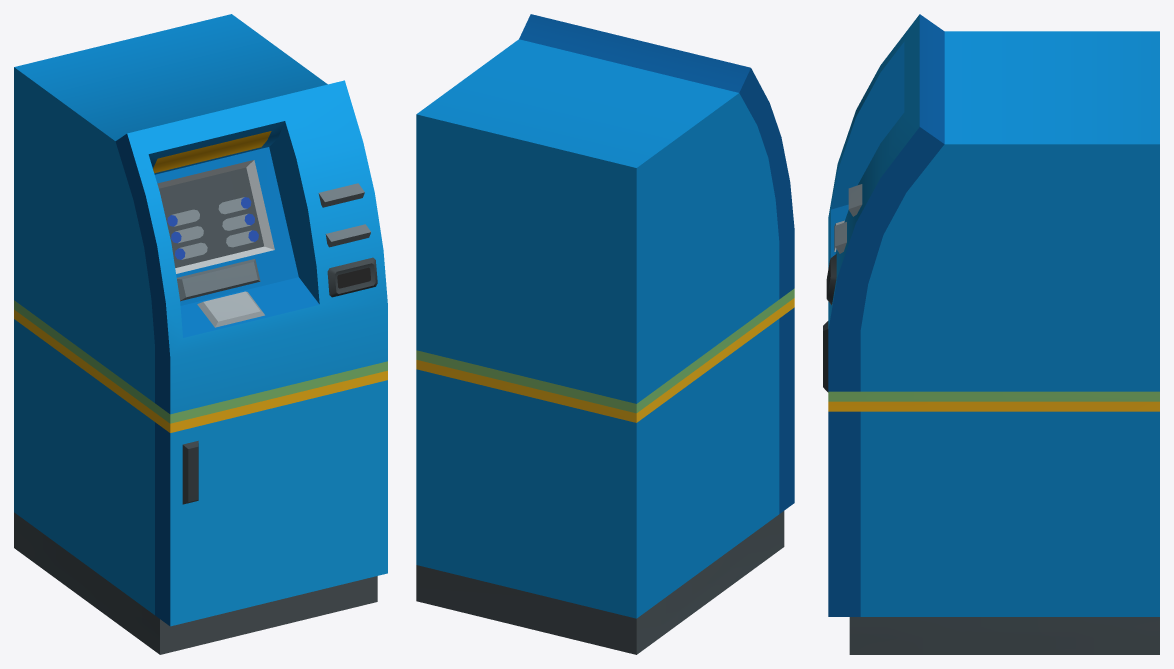
Rendered from ATM_01.obj.
3 views of the same model, side by side, from view 1: azimuth 30°, elevation 25°; view 2: azimuth 150°, elevation 25°; view 3: azimuth 270°, elevation 25° (orthographic). The views are drawn at different scales.
Parts seen in each view (by area): view 1: ATM_01; view 2: ATM_01; view 3: ATM_01.
Part boxes in pixels (x1,y1,x2,y2): ATM_01: (14, 14, 387, 654); ATM_01: (416, 14, 794, 654); ATM_01: (823, 14, 1159, 654).
Bounding box in the file's own units: 0.7923 × 1.73 × 0.9999.
Materials: 2 (2 with a texture image).
